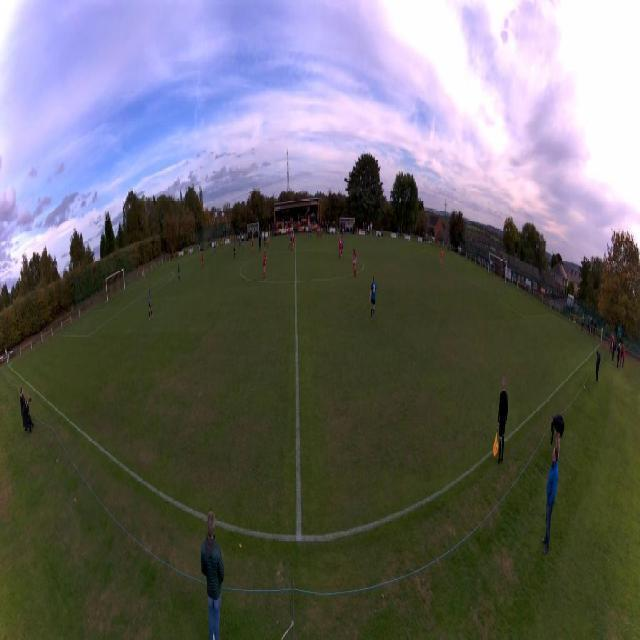ball: (243, 244, 244, 246)
player: (369, 275, 377, 322), (149, 291, 154, 321), (263, 250, 268, 279), (353, 248, 357, 277), (338, 234, 342, 258), (289, 231, 293, 250), (341, 235, 344, 259), (308, 223, 312, 239), (251, 235, 254, 256), (292, 231, 295, 250), (259, 235, 262, 254), (233, 241, 236, 258), (263, 231, 266, 247), (320, 228, 323, 242), (286, 227, 289, 241), (317, 227, 320, 241), (202, 249, 204, 268), (178, 261, 180, 280), (441, 248, 443, 266), (214, 239, 216, 255), (143, 268, 145, 283), (267, 236, 270, 245), (239, 235, 241, 246), (234, 236, 236, 244)
